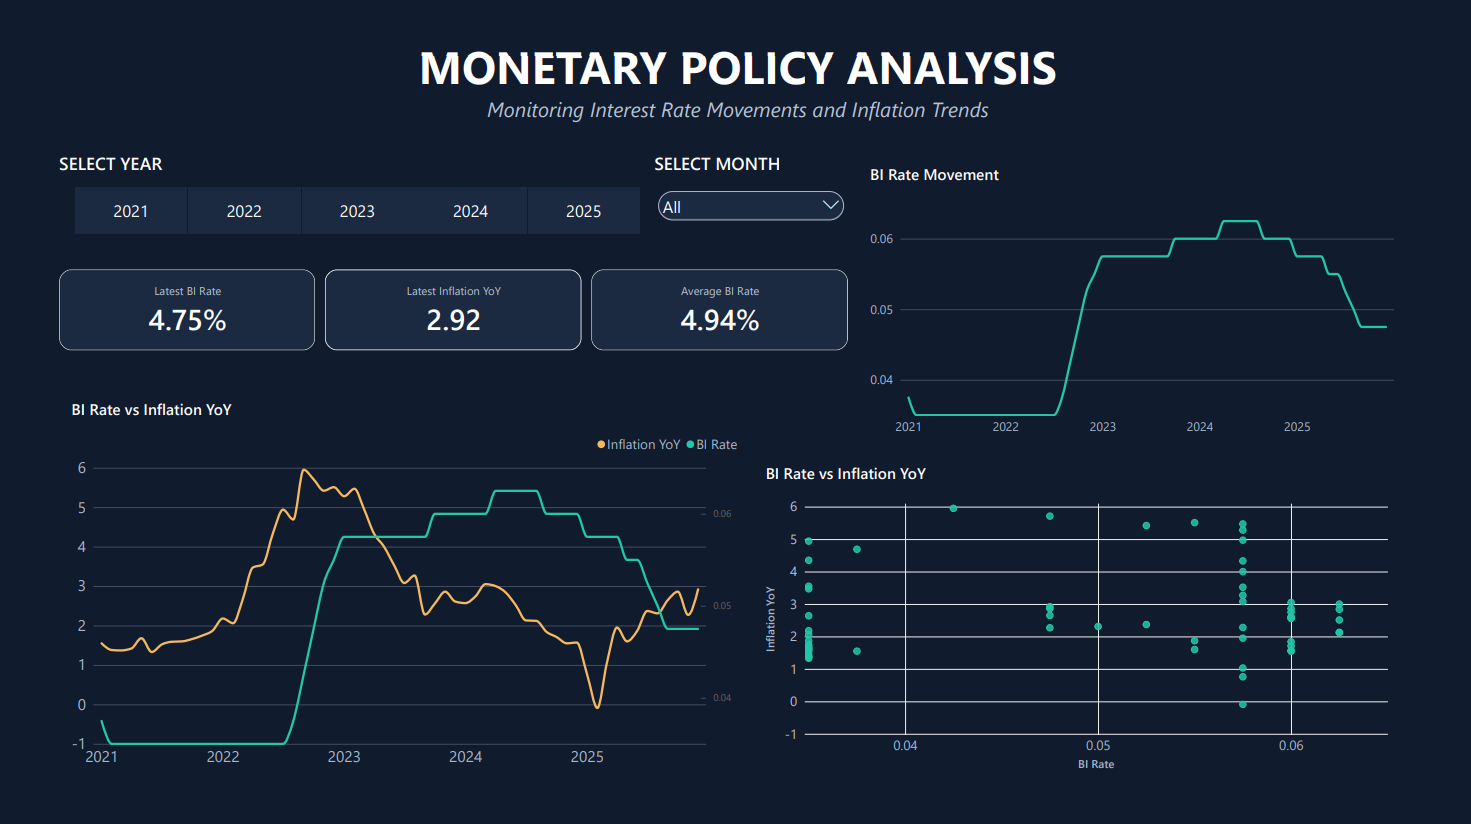

Layout of this report page (visuals, bound fields, positions):
{"tool":"powerbi","page":{"name":"Monetary Policy Analysis","canvas":[1920,1080],"ordinal":2},"visuals":[{"type":"textbox","box":[298,49,1328,138.3],"z":0},{"type":"cardVisual","fields":{"Data":["DateTable.Latest Inflation YoY"]},"box":[423.8,353.8,333.8,105],"z":1000},{"type":"slicer","title":"SELECT YEAR","fields":{"Values":["DateTable.Year"]},"box":[77.5,201.2,775,107.5],"z":2000},{"type":"slicer","title":"SELECT MONTH","fields":{"Values":["DateTable.Month Name"]},"box":[852.5,201.2,252.9,105.7],"z":3000},{"type":"cardVisual","fields":{"Data":["DateTable.Average BI Rate"]},"box":[771.2,353.8,333.8,105],"z":5000},{"type":"cardVisual","fields":{"Data":["DateTable.Latest BI Rate"]},"box":[77.5,353.8,333.8,105],"z":6000},{"type":"lineChart","title":"BI Rate Movement","fields":{"Category":["Sheet1.Month"],"Y":["Avg(Sheet1.BI_Rate)"]},"box":[1117.5,201.7,722.5,388.3],"z":7000},{"type":"lineChart","title":"BI Rate vs Inflation YoY","fields":{"Category":["Sheet1.Month"],"Y":["Avg(Sheet1.Inflation_YoY)"],"Y2":["Avg(Sheet1.BI_Rate)"]},"box":[78,507,905,516],"z":8000},{"type":"scatterChart","title":"BI Rate vs Inflation YoY","fields":{"Category":["Sheet1.Month"],"X":["Avg(Sheet1.BI_Rate)"],"Y":["Avg(Sheet1.Inflation_YoY)"]},"box":[982,590,858,432],"z":9000}]}

Visuals, with their boxes in screenshot pixels (x1, y1, x2, y2), scaled from the page's 1920x1080 canvas onto the 1471x824 screenshot:
textbox: 228, 37, 1246, 143
cardVisual - DateTable.Latest Inflation YoY: 325, 270, 580, 350
"SELECT YEAR" slicer: 59, 154, 653, 236
"SELECT MONTH" slicer: 653, 154, 847, 234
cardVisual - DateTable.Average BI Rate: 591, 270, 847, 350
cardVisual - DateTable.Latest BI Rate: 59, 270, 315, 350
"BI Rate Movement" lineChart: 856, 154, 1410, 450
"BI Rate vs Inflation YoY" lineChart: 60, 387, 753, 781
"BI Rate vs Inflation YoY" scatterChart: 752, 450, 1410, 780
